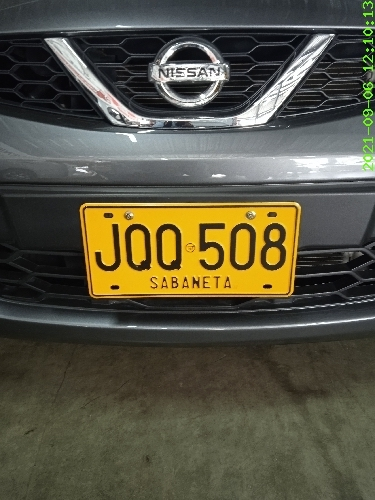number_plate: (82, 201, 300, 298)
